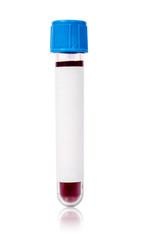Test tube: (29, 7, 76, 205)
